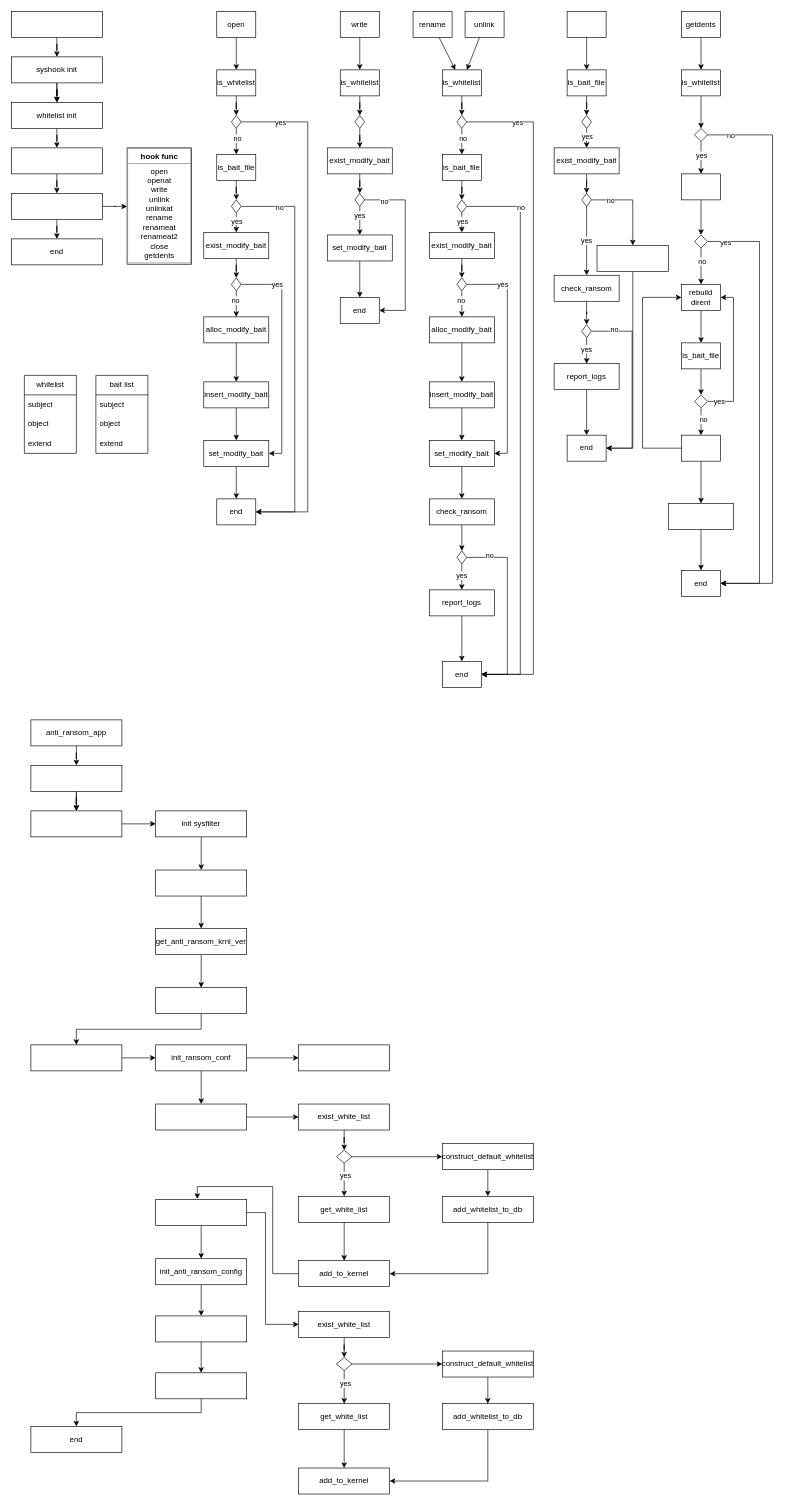
This 789x1505 diagram has some shape labels left out. The centre of each missing label's shape, as x and y in pixels:
"anti_ransom_init" goes at point 56,24.
"bait hashlist init" goes at point 56,160.
"close" goes at point 586,24.
"get_anti_ransom_module" goes at point 201,882.
"get_ransom_conf" goes at point 344,1057.
"init interface class" goes at point 76,778.
"init_anti_ransom" goes at point 76,1057.
"init_anti_ransom_kernel" goes at point 76,823.
"init_anti_ransom_switch" goes at point 201,1328.
"init_static_bait" goes at point 201,1212.
"init_white_list" goes at point 201,1116.
"install hook" goes at point 56,206.
"is_super" goes at point 701,186.
"rebuild file" goes at point 701,448.
"register logs receiver" goes at point 201,1000.
"remove_modify_bait" goes at point 632,258.
"ret rebuild dirent" goes at point 701,516.
"set_anit_ransom_switch" goes at point 201,1385.
